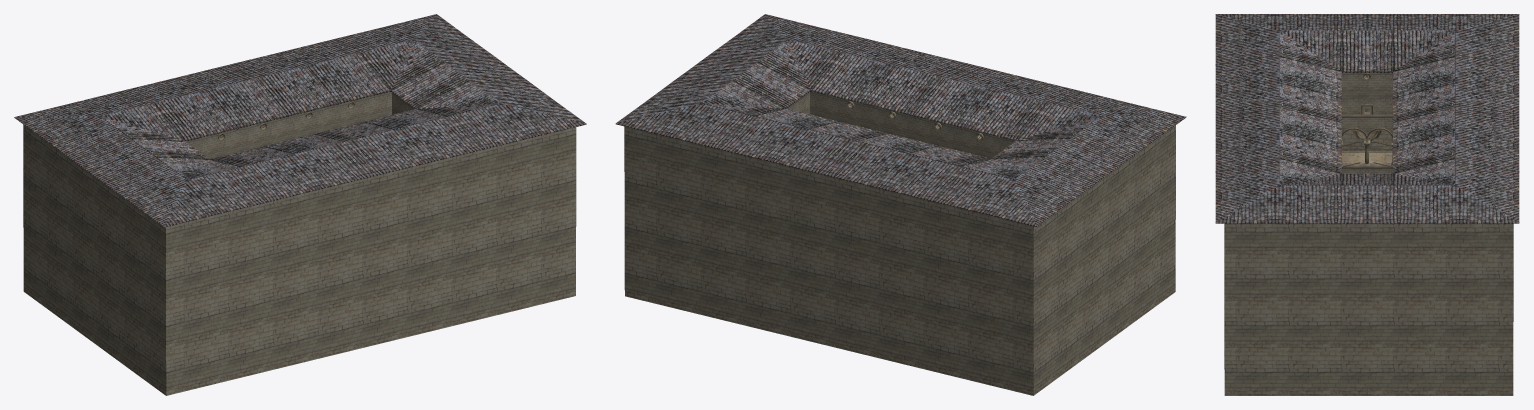
Rendered from sponza.glb.
3 renders of one model, left to right at view 1: azimuth 30°, elevation 25°; view 2: azimuth 150°, elevation 25°; view 3: azimuth 270°, elevation 25°, orthographic.
Bounding box in the file's own units: 29.77 × 12.45 × 18.31.
Materials: 25 (24 with a texture image).
